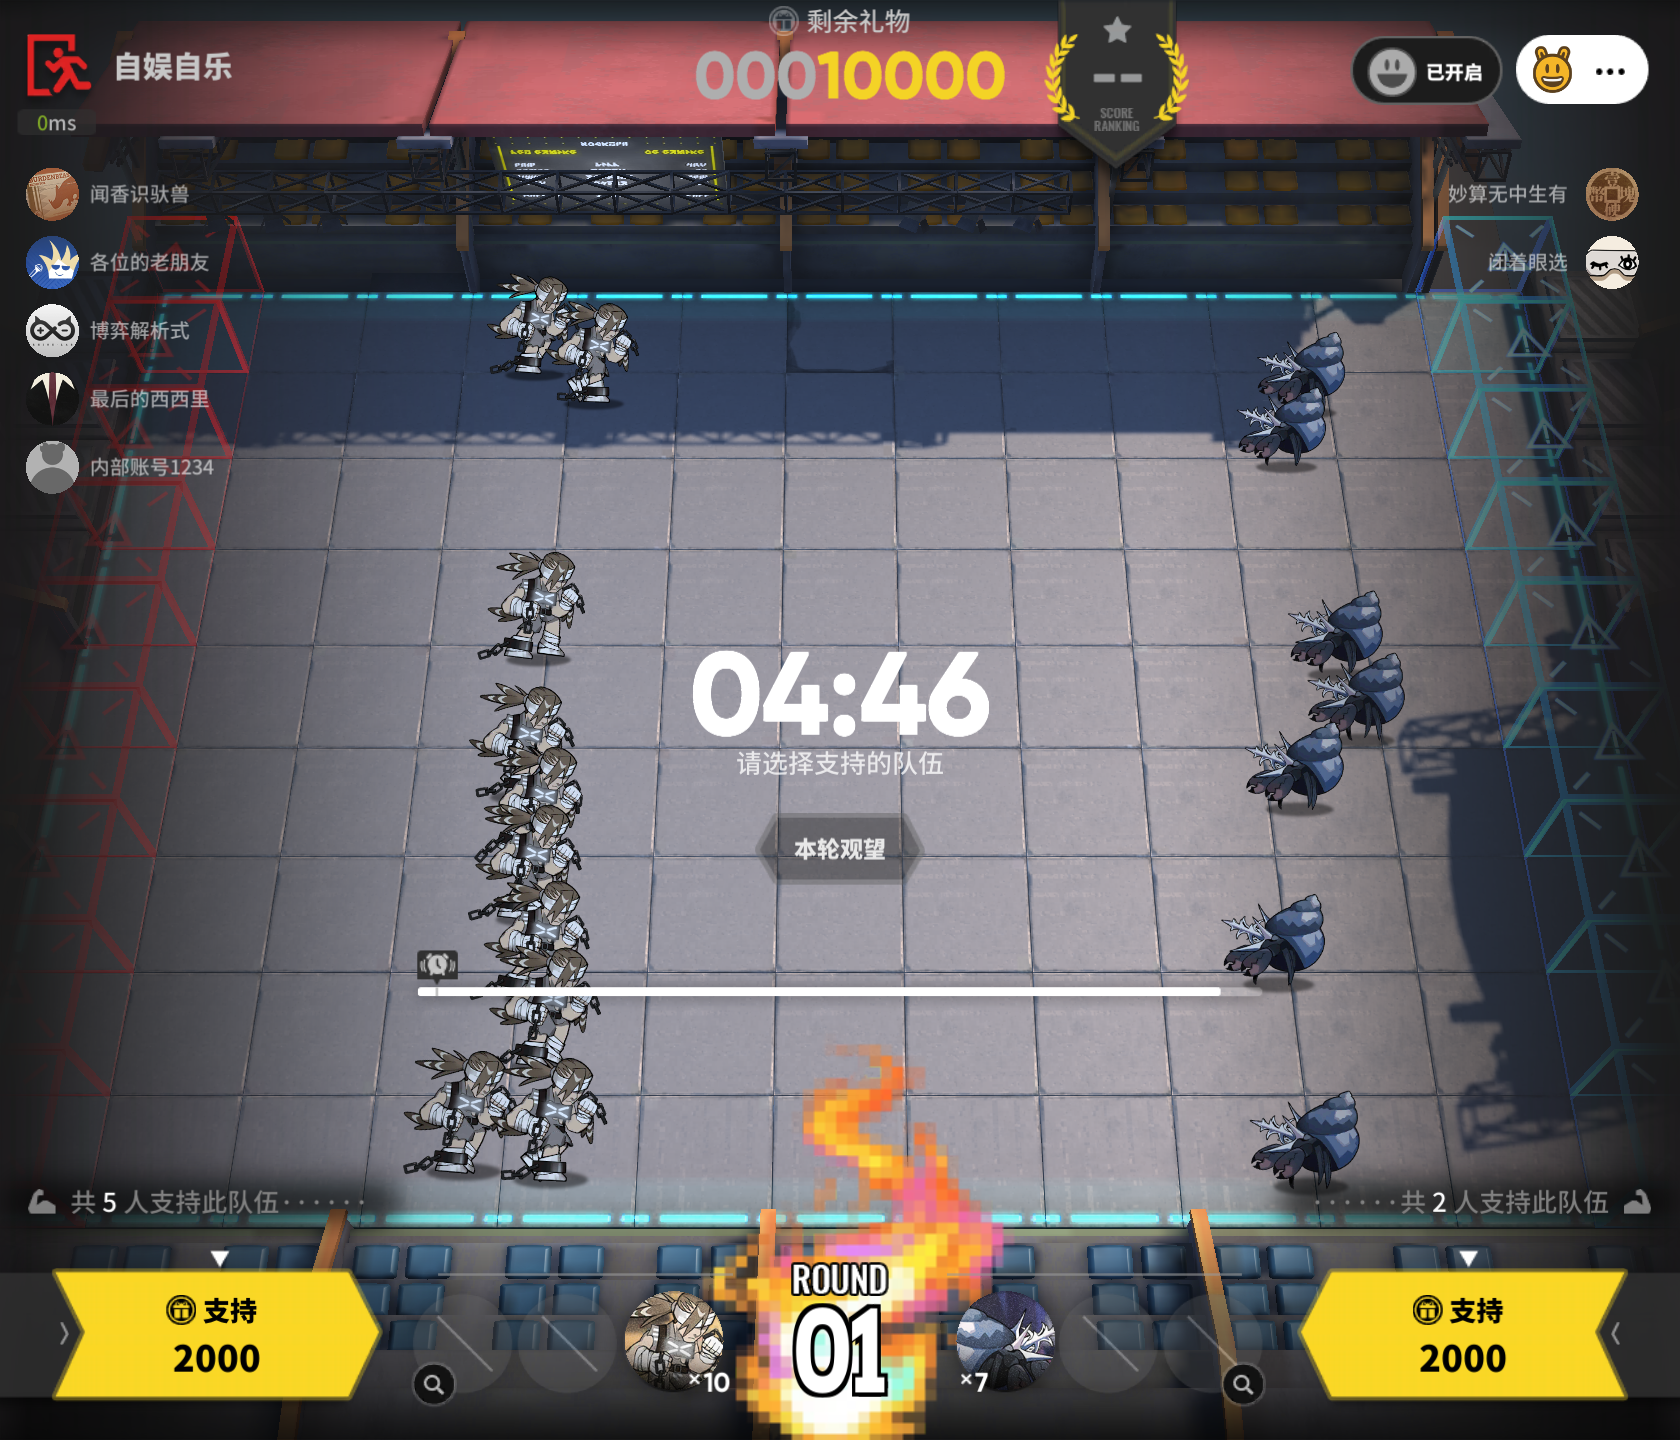小寄居蟹: (1249, 1090, 1359, 1191), (959, 1283, 1060, 1384), (1220, 893, 1324, 986), (1244, 721, 1344, 809), (1294, 587, 1389, 671), (1321, 651, 1407, 740), (1264, 336, 1351, 410), (1251, 389, 1327, 466)
锁链拳手: (401, 1047, 513, 1174), (499, 1059, 607, 1181), (477, 550, 586, 659), (626, 1290, 731, 1397), (501, 881, 597, 993), (514, 954, 609, 1066), (486, 806, 587, 906), (479, 684, 579, 780), (486, 274, 579, 374), (551, 301, 639, 401), (500, 743, 587, 843)
